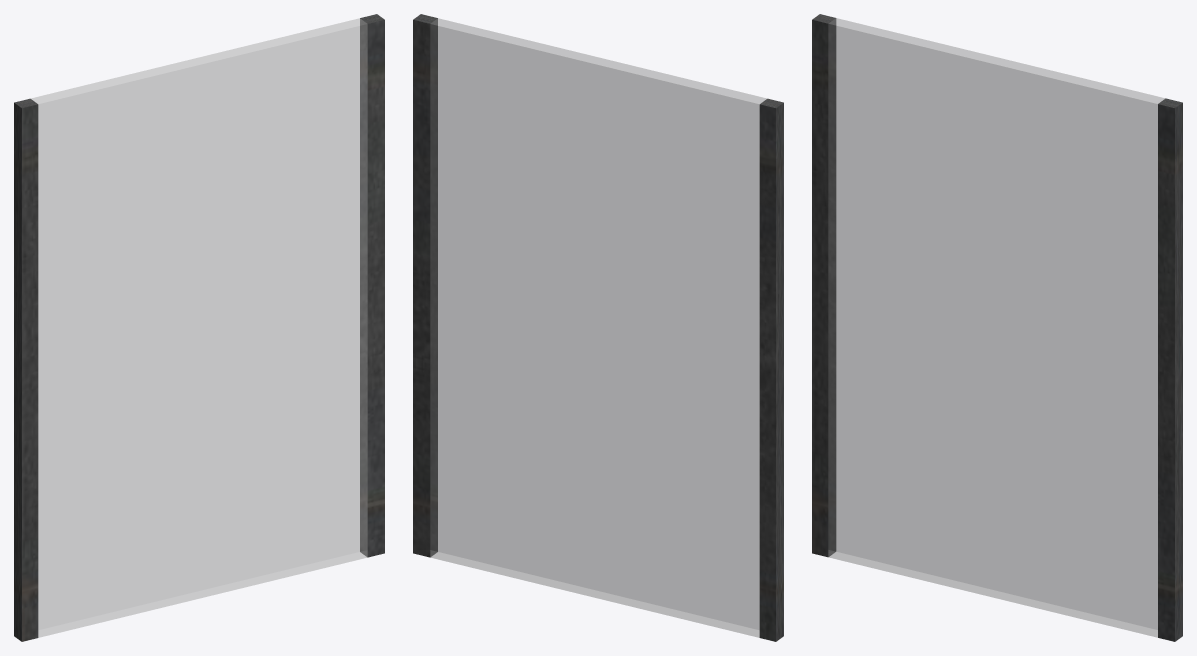
File: door1.glb
3 renders of one model, left to right at view 1: azimuth 30°, elevation 25°; view 2: azimuth 150°, elevation 25°; view 3: azimuth 330°, elevation 25°, orthographic.
Visible parts, largest first — view 1: Cube.002; view 2: Cube.002; view 3: Cube.002.
Boxes of the visible parts, bbox=[...] form: Cube.002: bbox=[14, 14, 384, 641]; Cube.002: bbox=[413, 14, 783, 641]; Cube.002: bbox=[812, 14, 1182, 641].
Size of the model in its own units: 6.85 by 9.63 by 0.2562.
2 materials, 1 textured.
